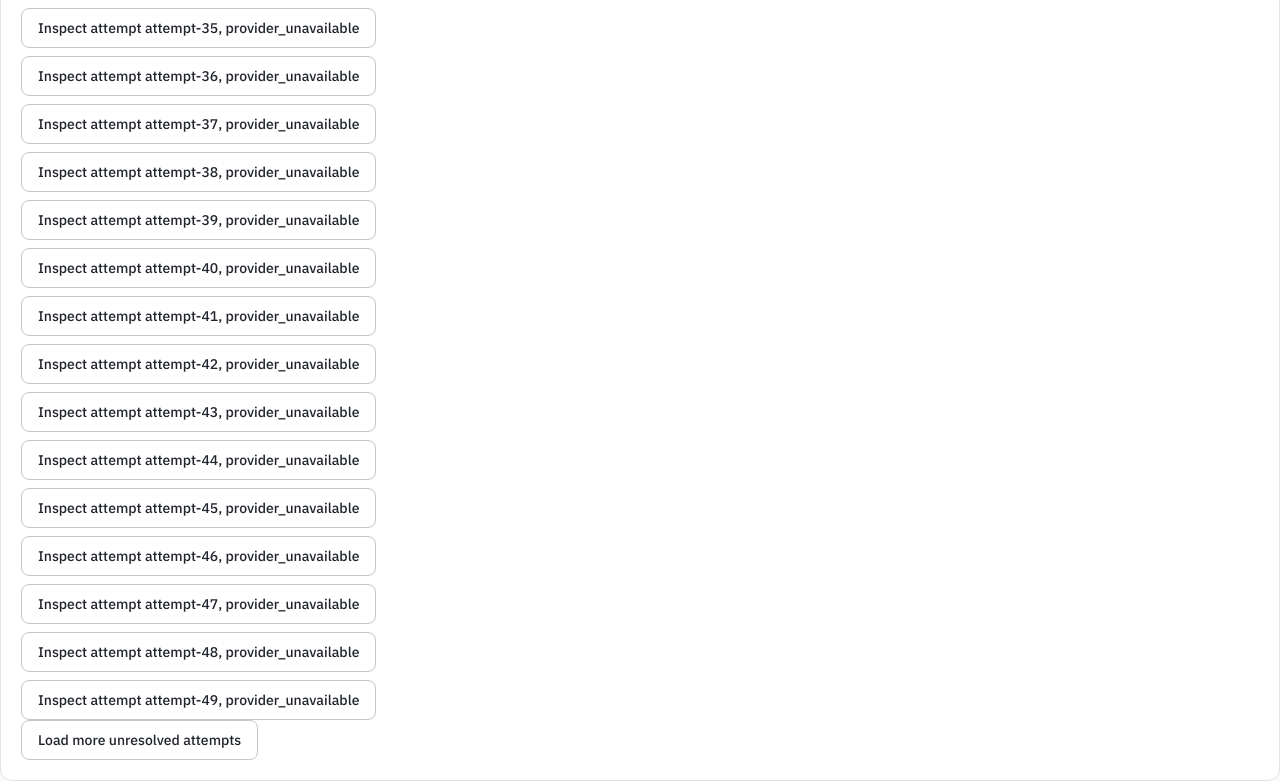
Test: Task 15 human assessment › loads later unresolved attempts through the bounded queue API
(page scrolled)
Click the button "Load more unresolved attempts": [140, 740] box [21,720,258,760]
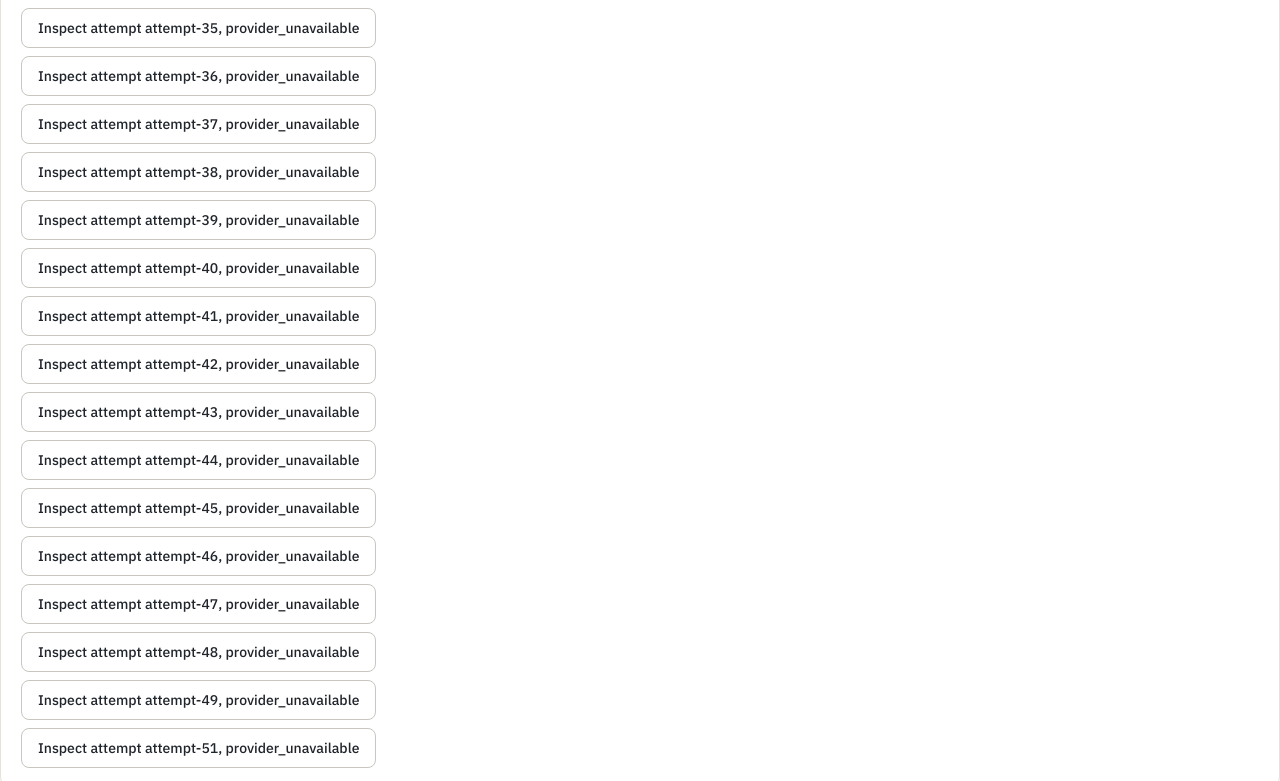
Expected: the button "Inspect attempt attempt-51, provider_unavailable" is shown, [21,728,376,768]
Expected: the button "Load more unresolved attempts" is gone
